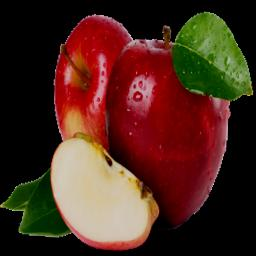Apple Ripe: (97, 30, 256, 241), (40, 7, 140, 152)
